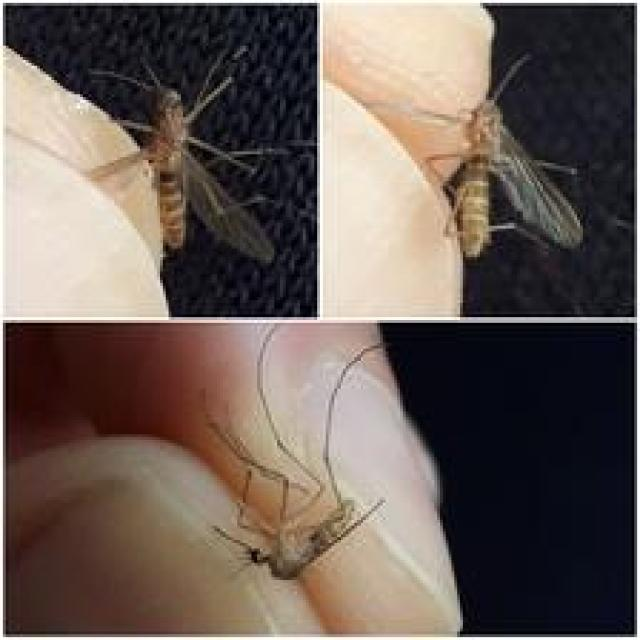Culex: (84, 43, 290, 266)
